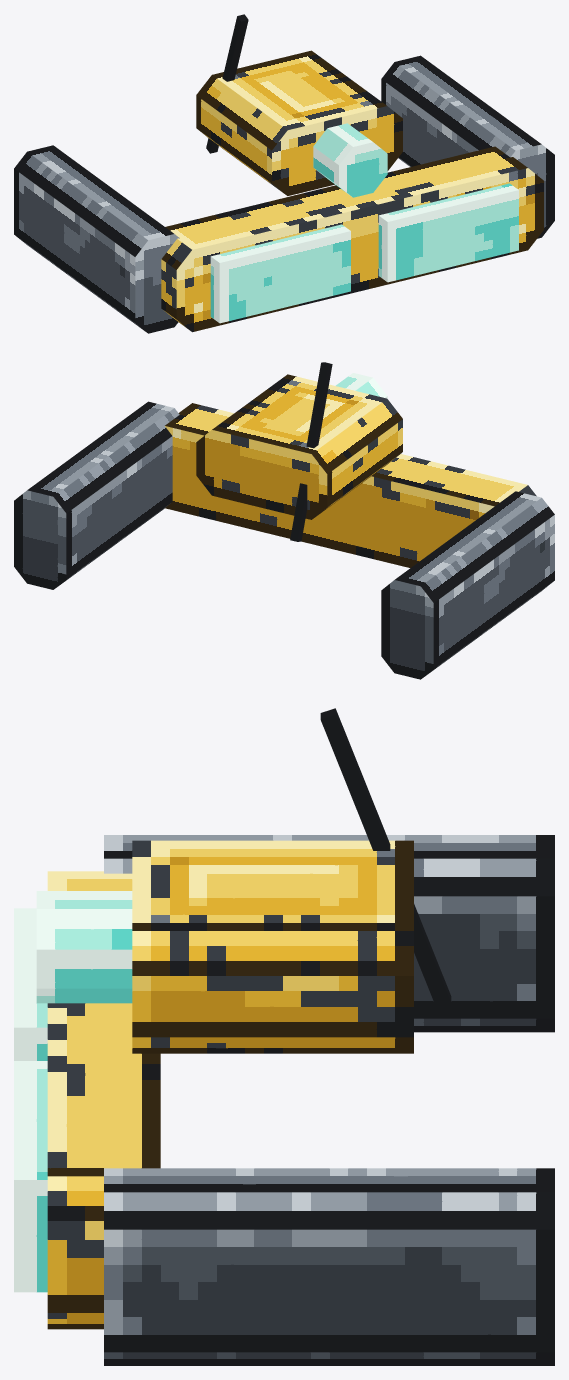
File: cy_visor.glb
The picture shows the model from 3 angles, top to bottom: view 1: azimuth 30°, elevation 25°; view 2: azimuth 150°, elevation 25°; view 3: azimuth 270°, elevation 25°; orthographic projection. The views are drawn at different scales.
Parts seen in each view (by area): view 1: band, pod, sideR, sideL, lensL, lensR, eye, aerial; view 2: band, pod, sideR, sideL, aerial, eye; view 3: sideL, pod, sideR, band, eye, lensL, aerial, lensR.
Part boxes in pixels (x1,y1,x2,y2): band: [161, 146, 543, 332]; pod: [196, 50, 402, 195]; sideR: [14, 145, 179, 333]; sideL: [381, 55, 554, 238]; lensL: [378, 183, 518, 282]; lensR: [210, 224, 350, 323]; eye: [313, 123, 387, 197]; aerial: [206, 14, 248, 153]; band: [165, 403, 536, 567]; pod: [196, 374, 402, 519]; sideR: [381, 491, 554, 679]; sideL: [14, 401, 179, 589]; aerial: [290, 362, 332, 541]; eye: [335, 373, 387, 398]; sideL: [104, 1168, 554, 1365]; pod: [132, 840, 413, 1053]; sideR: [104, 835, 554, 1032]; band: [47, 871, 160, 1329]; eye: [36, 891, 132, 1003]; lensL: [14, 1061, 47, 1292]; aerial: [320, 708, 451, 1007]; lensR: [14, 908, 47, 1060].
Bounding box in the file's own units: 16 × 8.57 × 9.6.
Materials: 1 (1 with a texture image).
